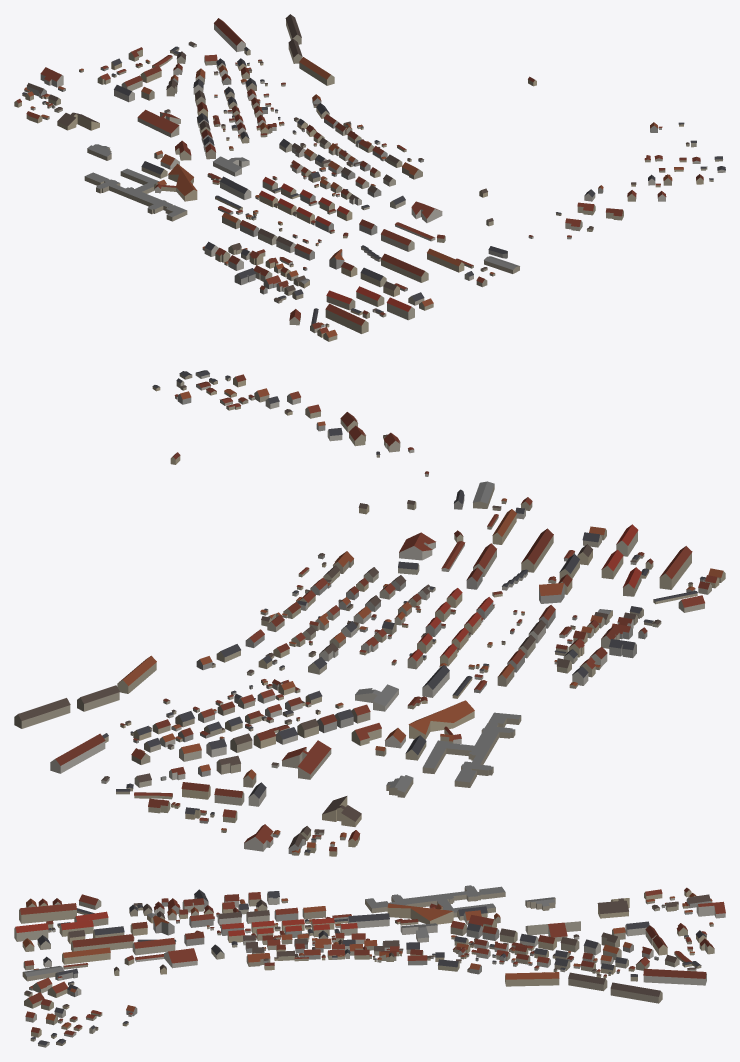
3 renders of one model, top to bottom at view 1: azimuth 30°, elevation 25°; view 2: azimuth 150°, elevation 25°; view 3: azimuth 270°, elevation 25°, orthographic. The views are drawn at different scales.
Parts seen in each view (by area): view 1: buildings; view 2: buildings; view 3: buildings.
Part boxes in pixels (x1,y1,x2,y2): buildings: (14, 14, 725, 341); buildings: (14, 370, 725, 856); buildings: (14, 885, 725, 1047).
Bounding box in the file's own units: 630 × 143 × 832.
